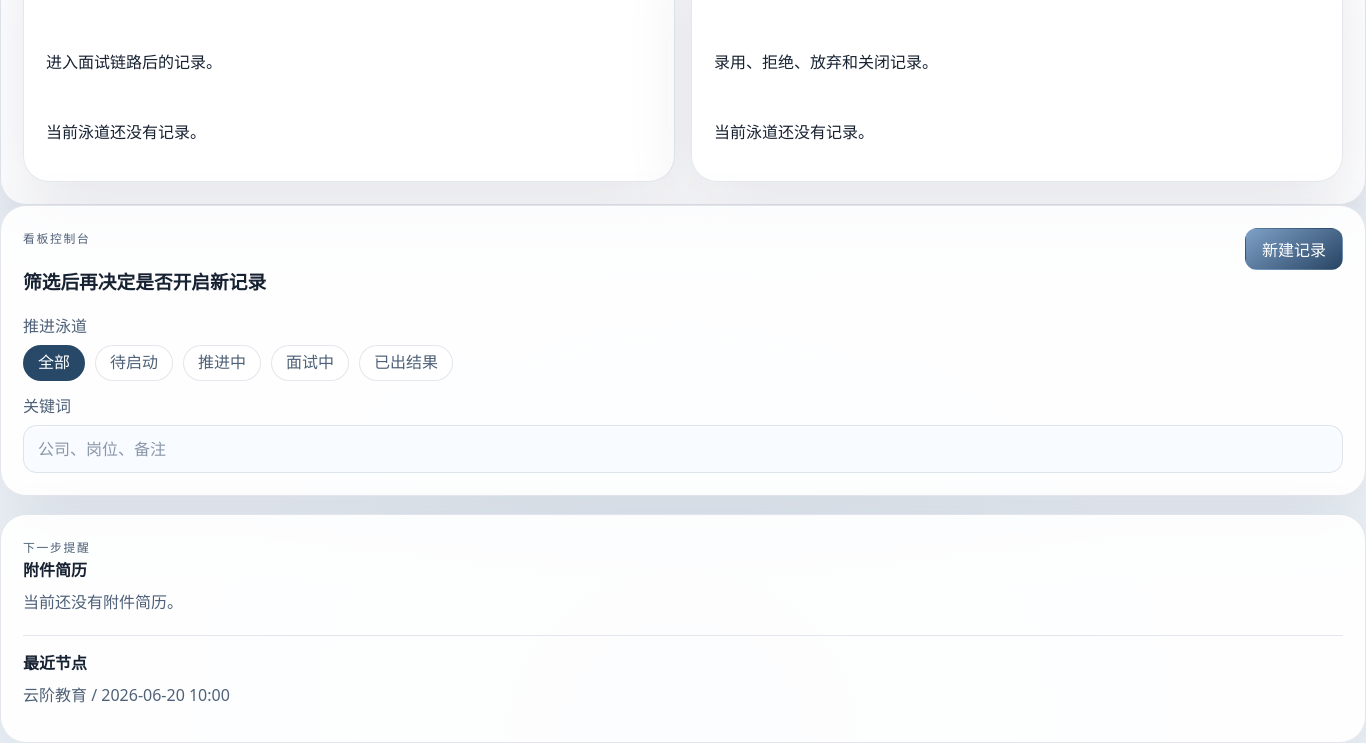
Test case: student employment pages › filters the applications board to the selected workflow lane
(page scrolled)
Click the button "面试中": (310, 363) [271,345,349,381]
(page scrolled)
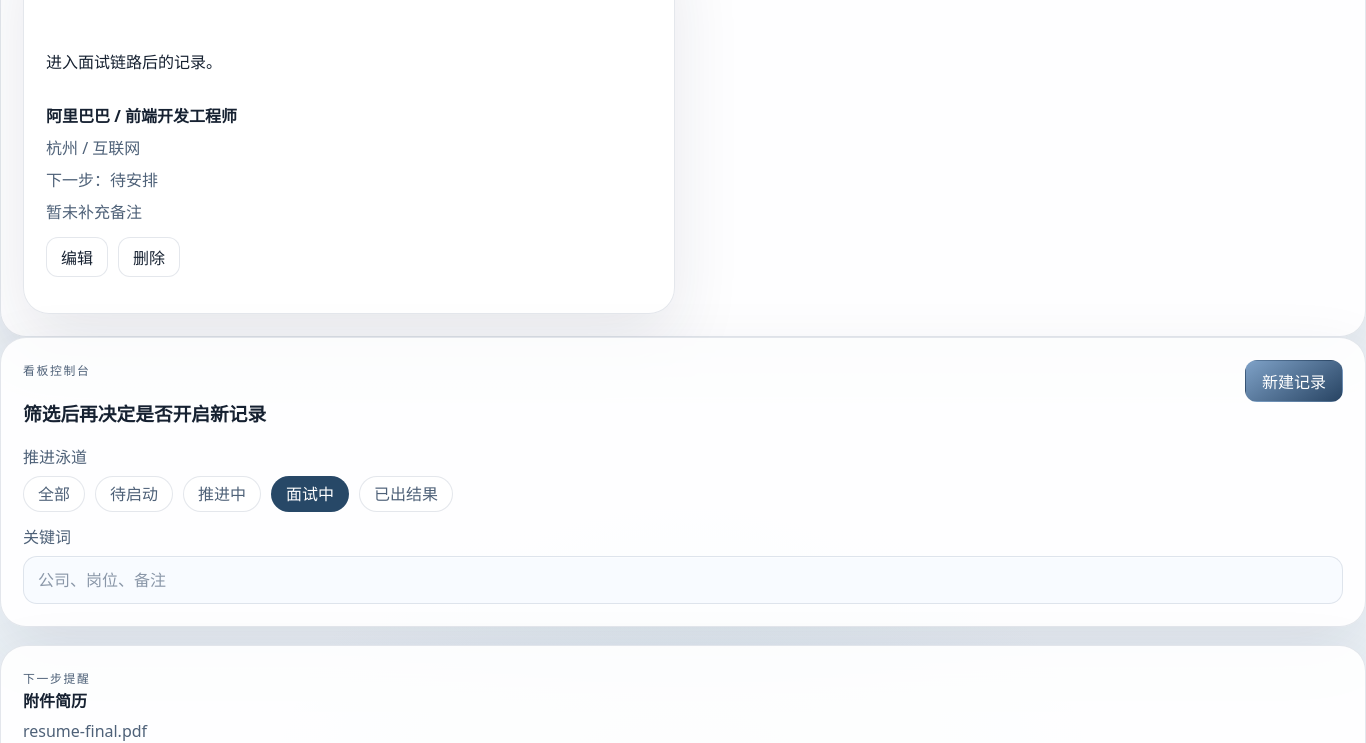
Now the text "阿里巴巴 / 前端开发工程师" is shown, box [46,105,237,127]
